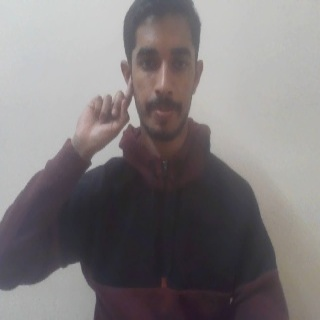Deaf: (71, 73, 133, 162)
Face: (119, 1, 205, 147)
